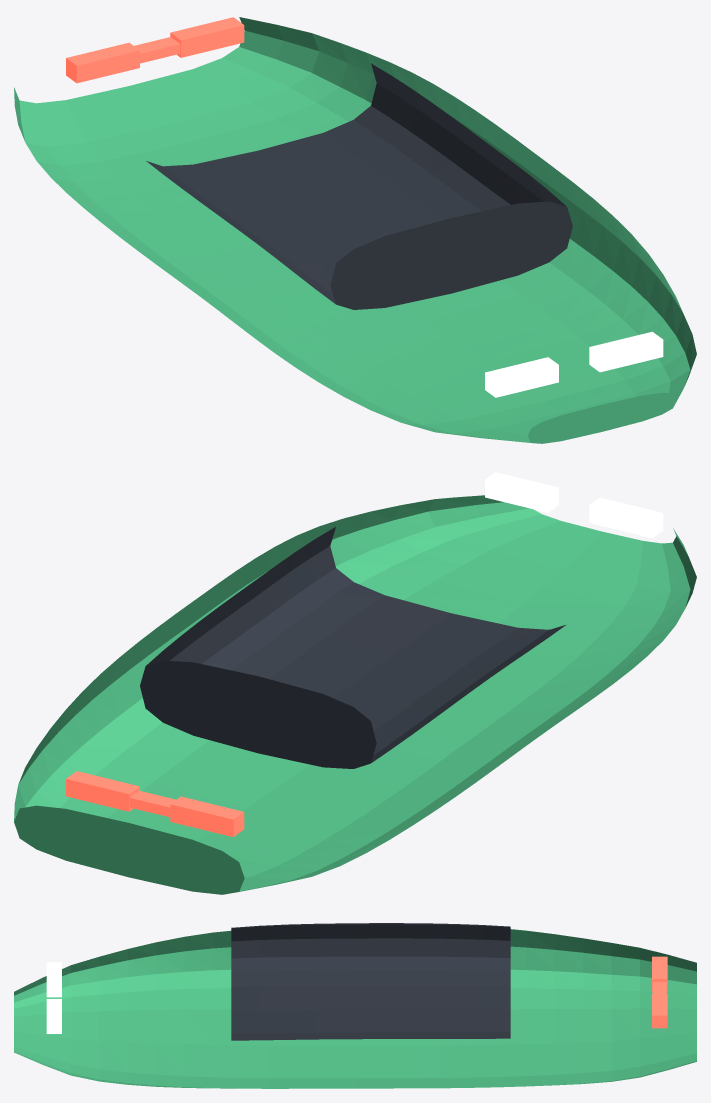
Rendered from roadster-3.glb.
The picture shows the model from 3 angles, top to bottom: view 1: azimuth 30°, elevation 25°; view 2: azimuth 150°, elevation 25°; view 3: azimuth 270°, elevation 25°; orthographic projection. The views are drawn at different scales.
Bounding box in the file's own units: 1.91 × 0.6702 × 4.4.
